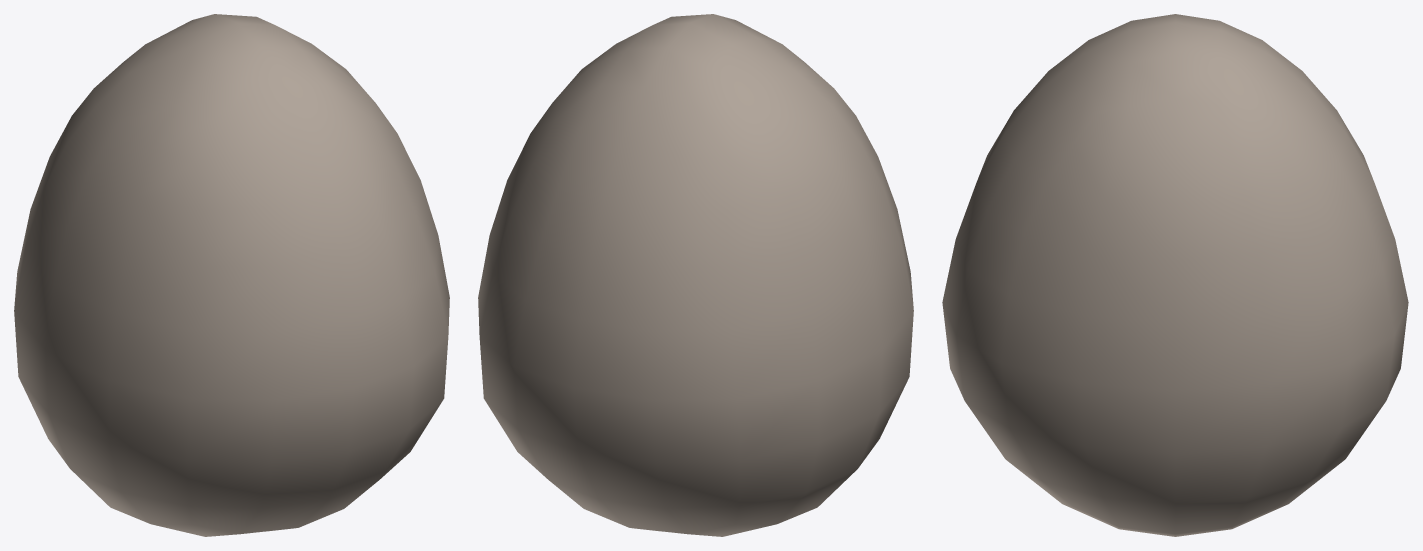
File: egg_2.fbx
The picture shows the model from 3 angles, left to right: view 1: azimuth 30°, elevation 25°; view 2: azimuth 150°, elevation 25°; view 3: azimuth 270°, elevation 25°; orthographic projection.
Visible parts, largest first — view 1: egg; view 2: egg; view 3: egg.
Part boxes in pixels (box(x1,y1,x2,y2)): egg: box(14, 14, 449, 536); egg: box(478, 14, 913, 536); egg: box(942, 14, 1408, 536).
Size of the model in its own units: 0.4734 by 0.5976 by 0.5123.
